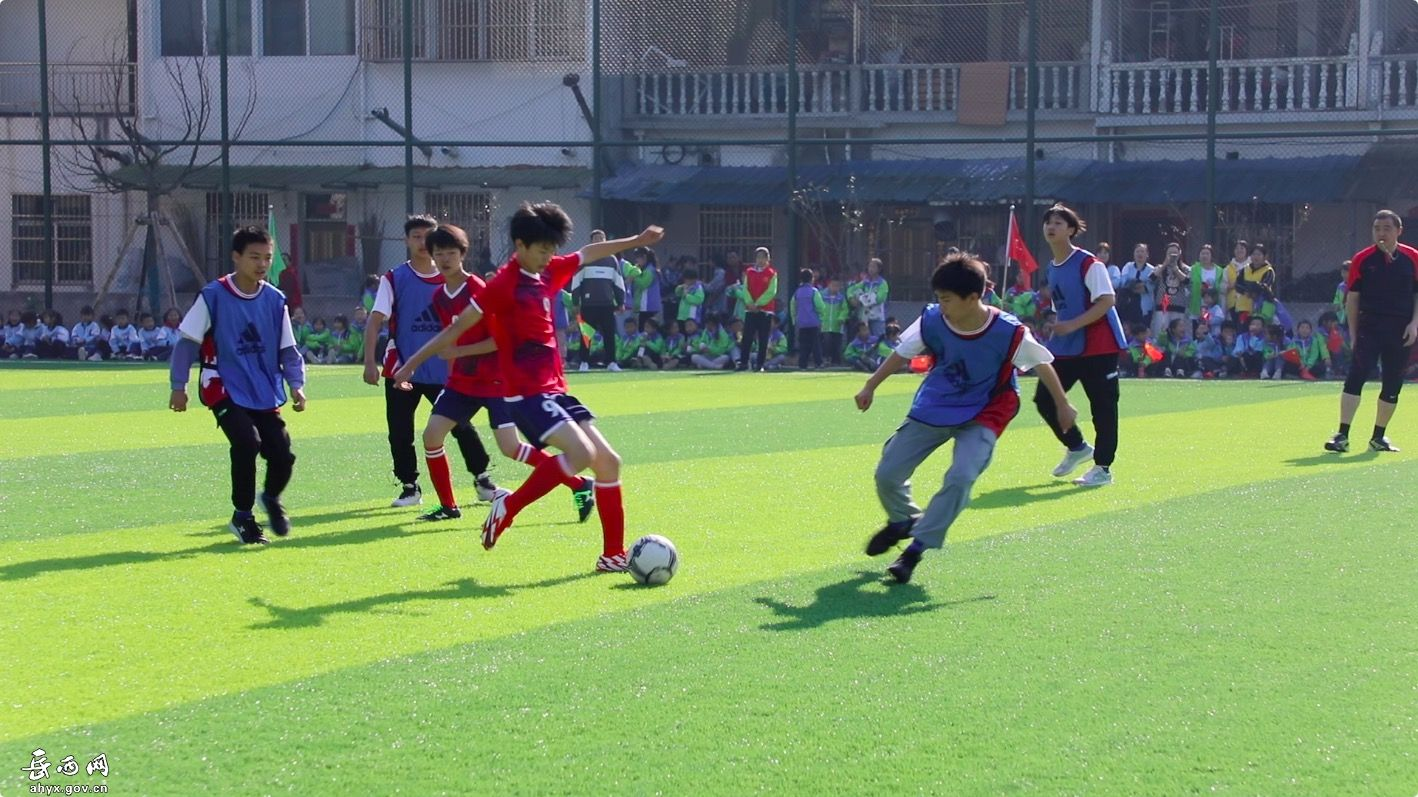football: (623, 530, 682, 588)
